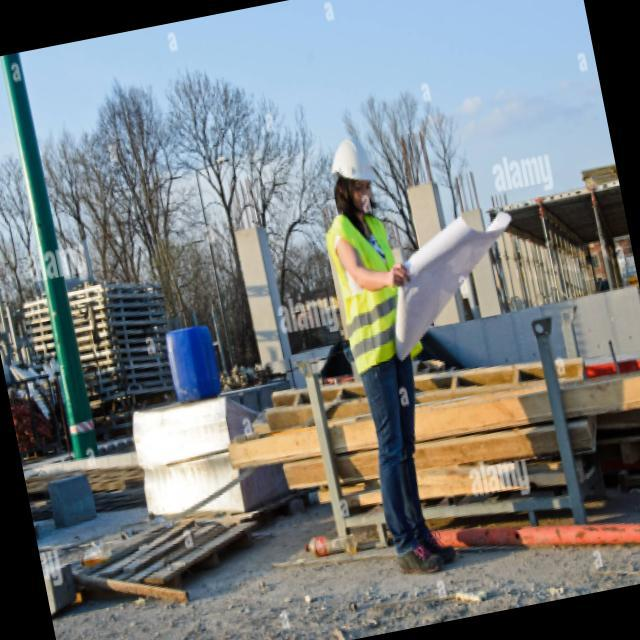hard_hat: (326, 136, 385, 225)
shoes: (388, 523, 463, 584)
vest: (323, 204, 424, 383)
